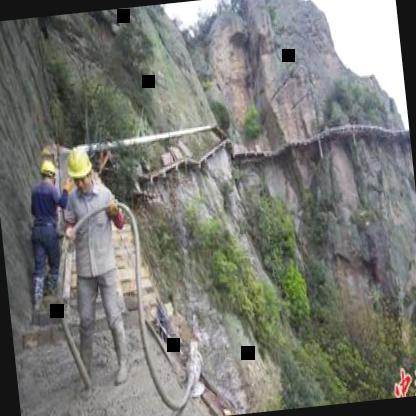helmet: (64, 143, 96, 190), (36, 156, 57, 190)
